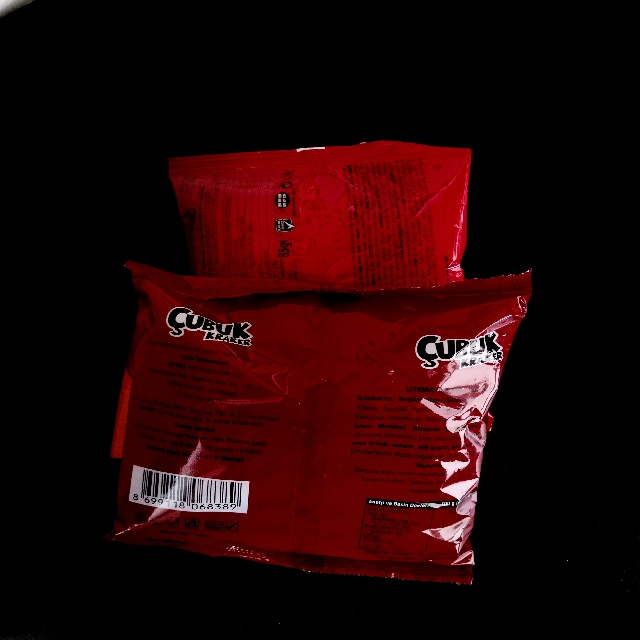citkirildim_cubuk_kraker: (114, 262, 530, 583)
eti_crax_cubuk_kraker: (169, 141, 469, 289)
